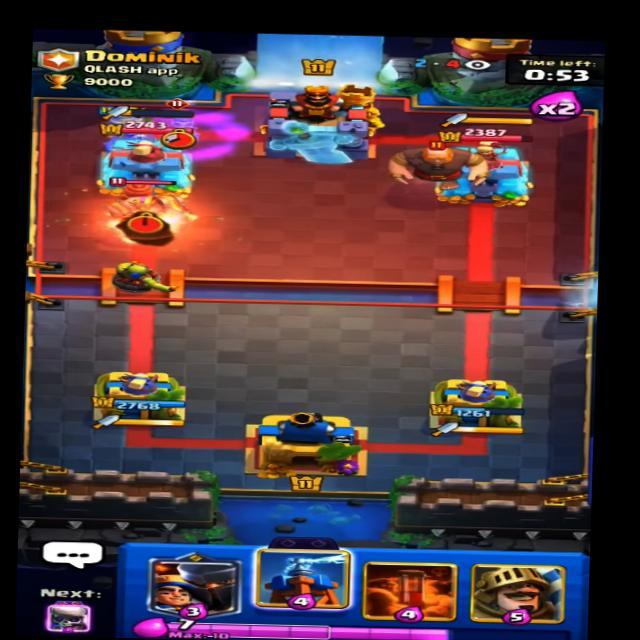evo-bomber: (166, 109, 209, 146)
giant: (381, 134, 491, 192)
goblin-machine: (98, 176, 203, 240)
